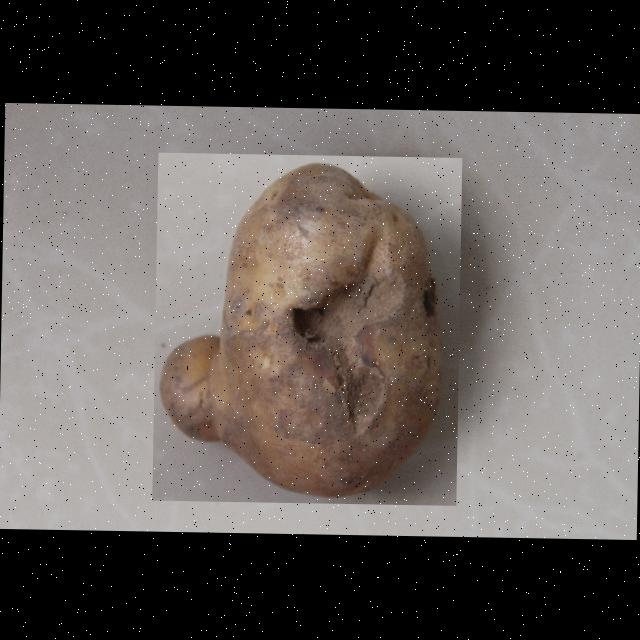Diseased-fungal potato: (151, 152, 461, 504)
